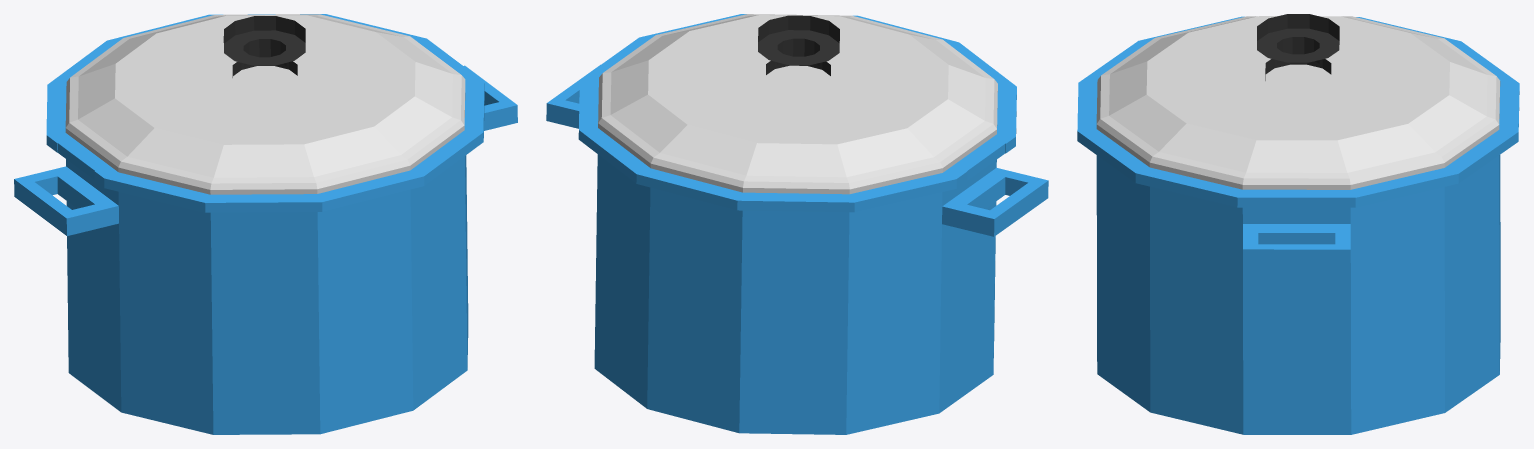
The model's file is cooking-pot.fbx.
3 views of the same model, side by side, from view 1: azimuth 30°, elevation 25°; view 2: azimuth 150°, elevation 25°; view 3: azimuth 270°, elevation 25° (orthographic).
Visible parts, largest first — view 1: Cylinder.004, Cylinder.003; view 2: Cylinder.004, Cylinder.003; view 3: Cylinder.004, Cylinder.003.
Part boxes in pixels (x1,y1,x2,y2): Cylinder.004: [14, 14, 517, 434]; Cylinder.003: [65, 14, 465, 194]; Cylinder.004: [546, 14, 1048, 434]; Cylinder.003: [598, 14, 997, 194]; Cylinder.004: [1077, 16, 1519, 434]; Cylinder.003: [1096, 14, 1500, 189].
Bounding box in the file's own units: 97.04 × 65.81 × 81.78.
